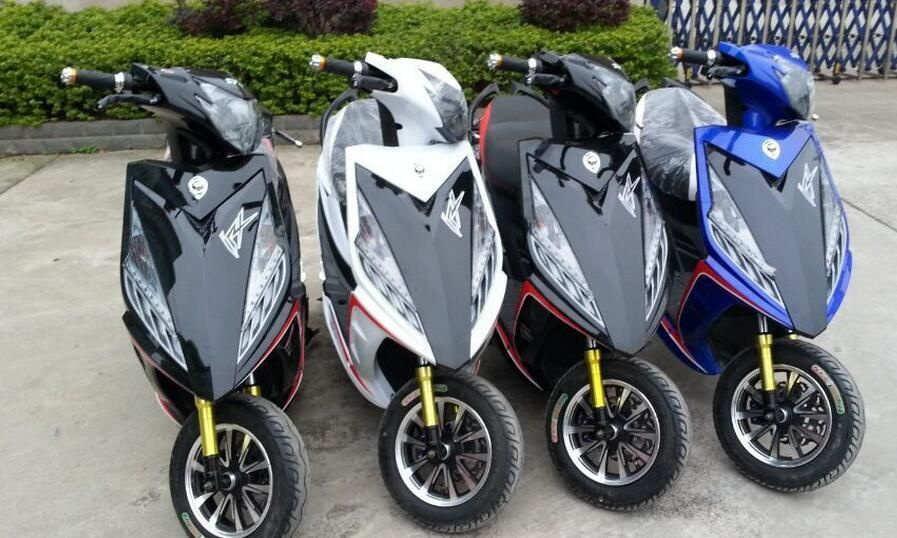non-vehicle: (62, 46, 322, 529), (634, 40, 871, 495), (468, 46, 699, 512), (302, 47, 519, 528)
